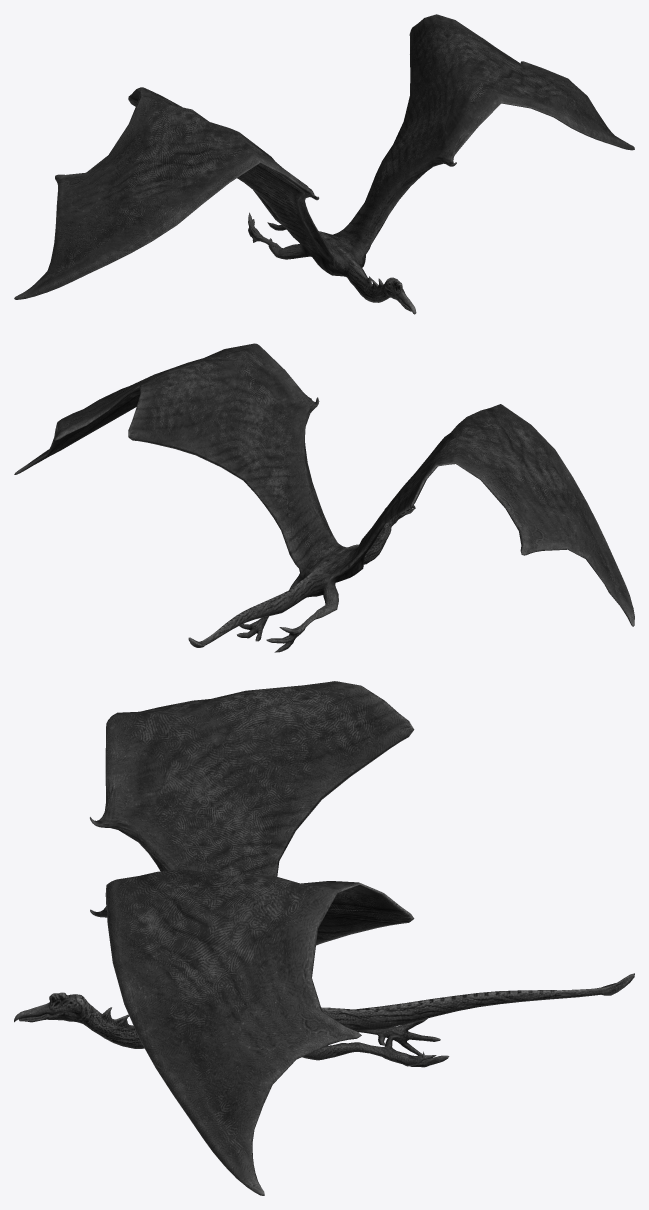
Rendered from Fellbeast_Animate_Grab_Glide_7.obj.
3 views of the same model, one above another, from view 1: azimuth 30°, elevation 25°; view 2: azimuth 150°, elevation 25°; view 3: azimuth 270°, elevation 25° (orthographic). The views are drawn at different scales.
Visible parts, largest first — view 1: Fellbeast; view 2: Fellbeast; view 3: Fellbeast.
Part boxes in pixels (<box>): Fellbeast: <box>14,14,634,314</box>; Fellbeast: <box>14,343,634,652</box>; Fellbeast: <box>14,681,634,1195</box>.
Bounding box in the file's own units: 6.91 × 2.18 × 4.35.
